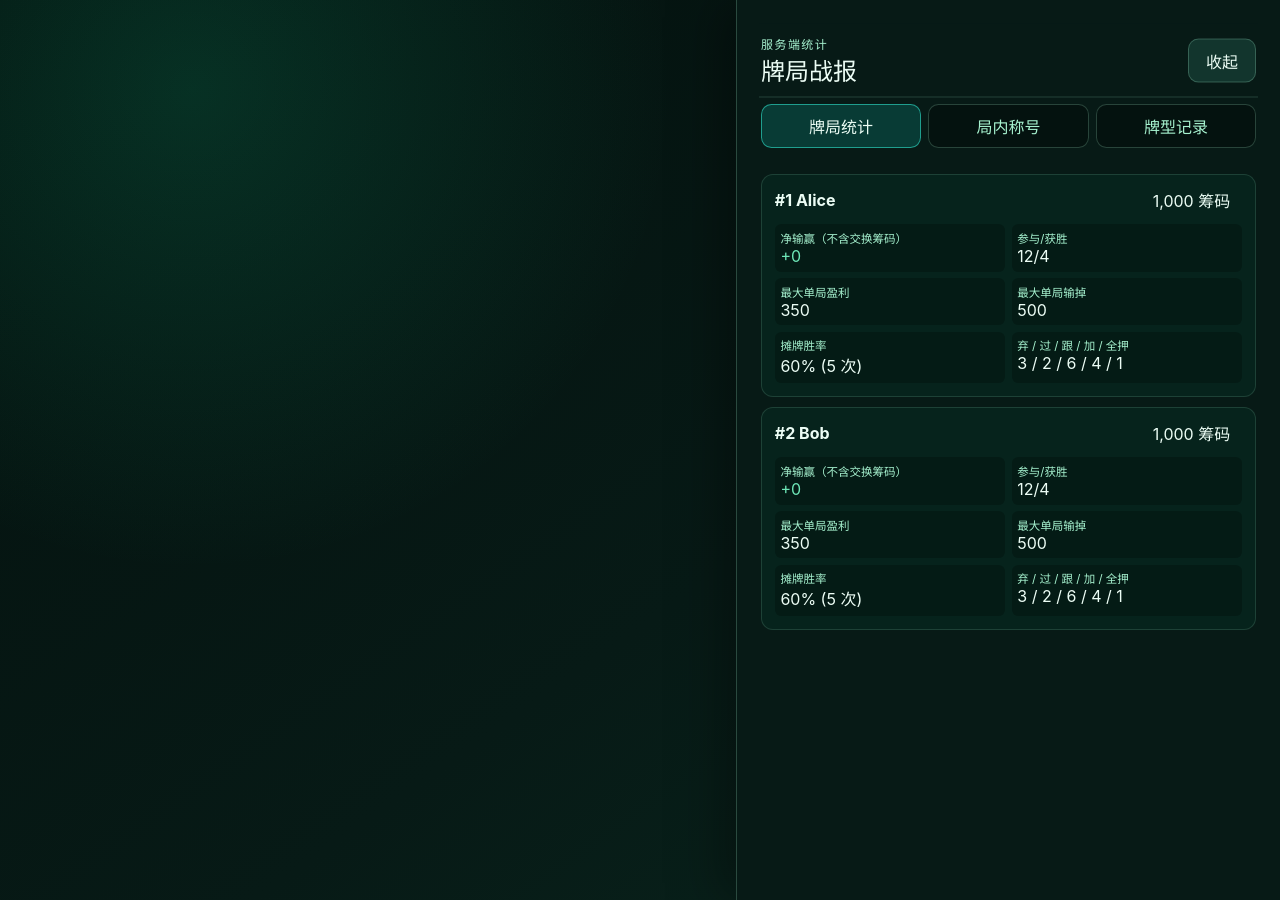
Scenario: StatisticsPanel › switches to all tied titles and supports keyboard tabs
Press ArrowRight in the tab "牌局统计", box [761,104,921,148]
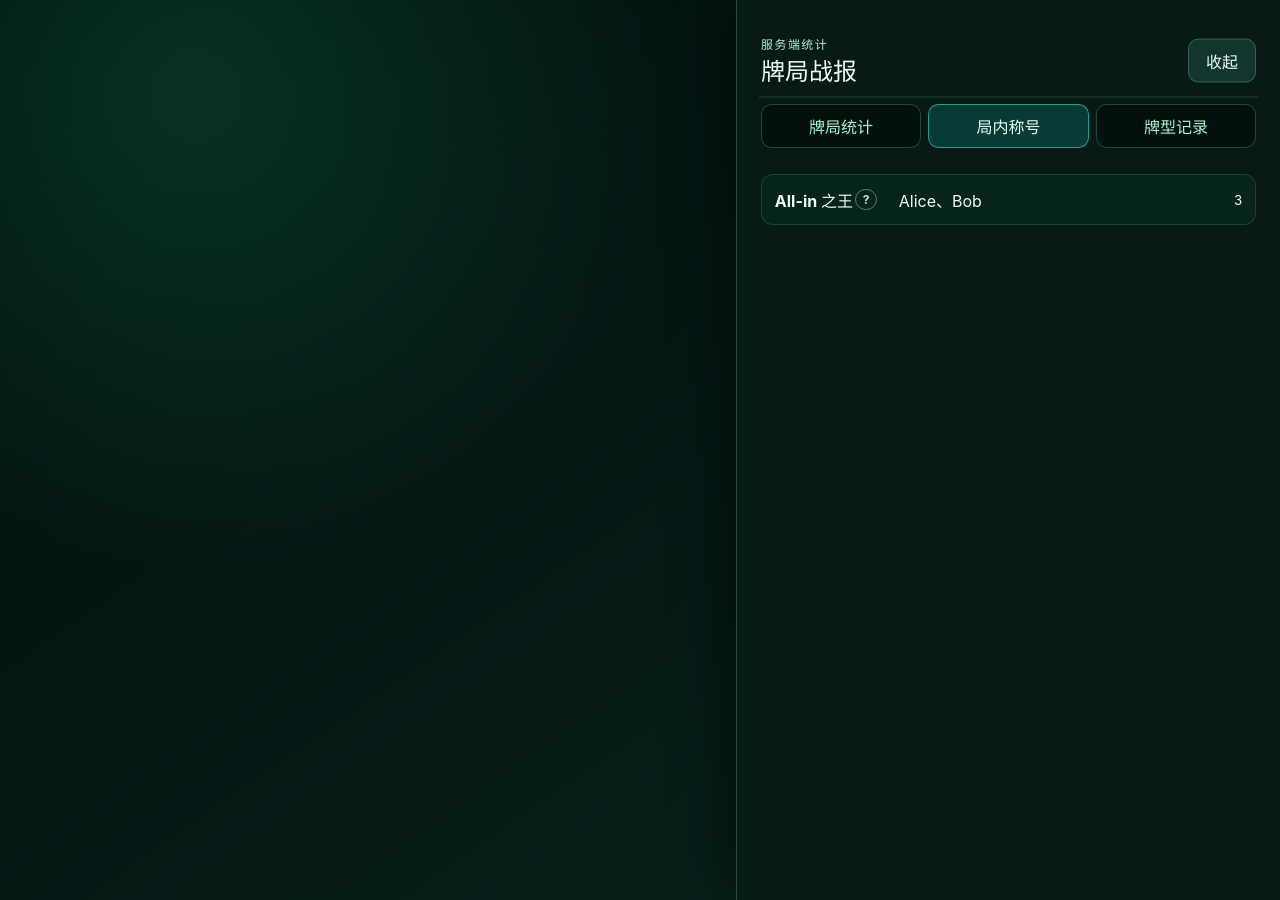
Expected: the text "Alice、Bob" is shown, [899,191,982,211]
Expected: the text "All-in 之王" is shown, [775,188,853,212]
Click the button named "说明：All-in 之王". click: (866,200)
box: [855,189,877,210]
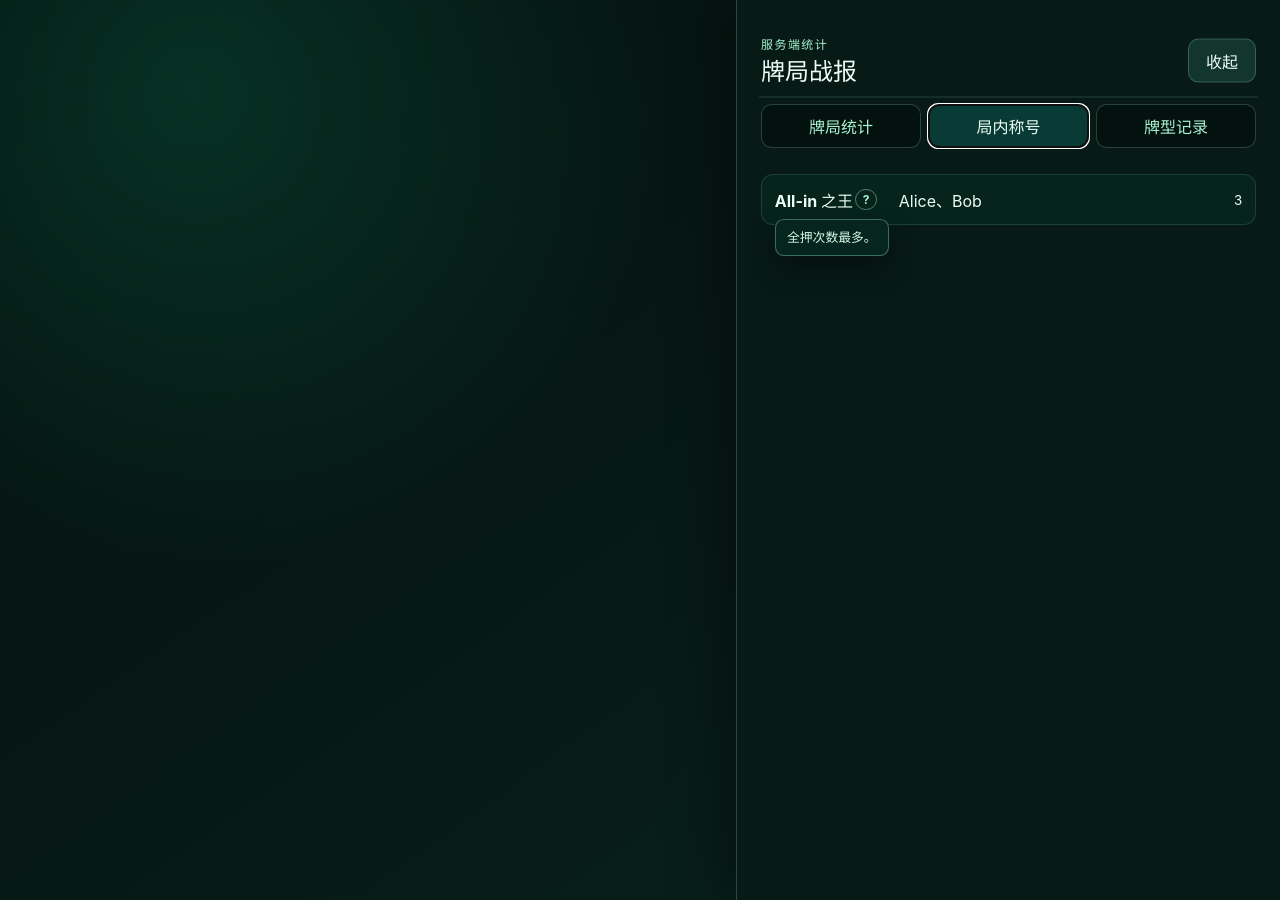
Expected: the tooltip reads "全押次数最多。", [787,230,877,245]
